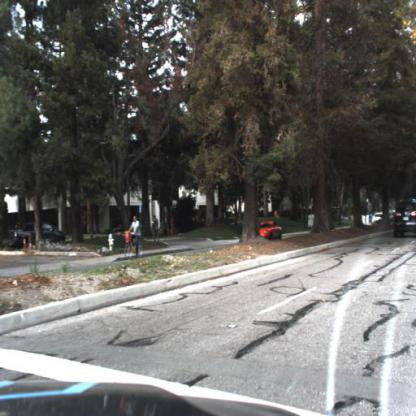biker: (123, 215, 145, 261)
car: (8, 221, 67, 253), (391, 198, 416, 240), (256, 218, 285, 241)
pedestrian: (152, 214, 163, 250)
